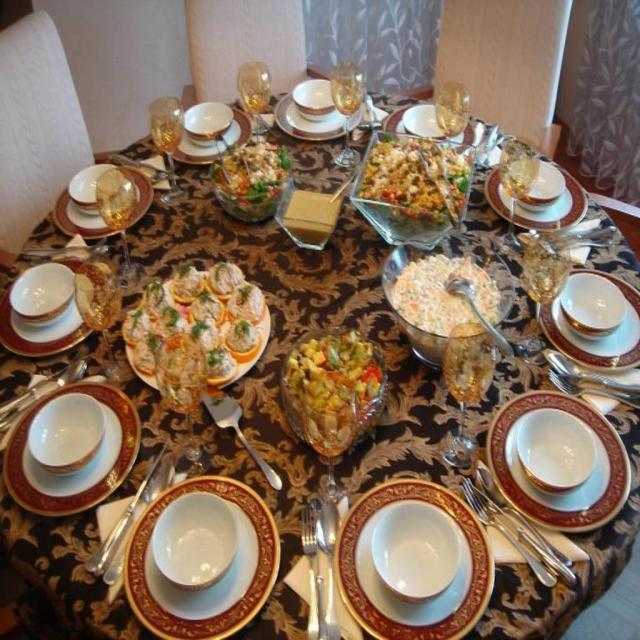ceramic plate: (118, 453, 290, 640), (339, 468, 482, 640), (5, 378, 144, 534)
